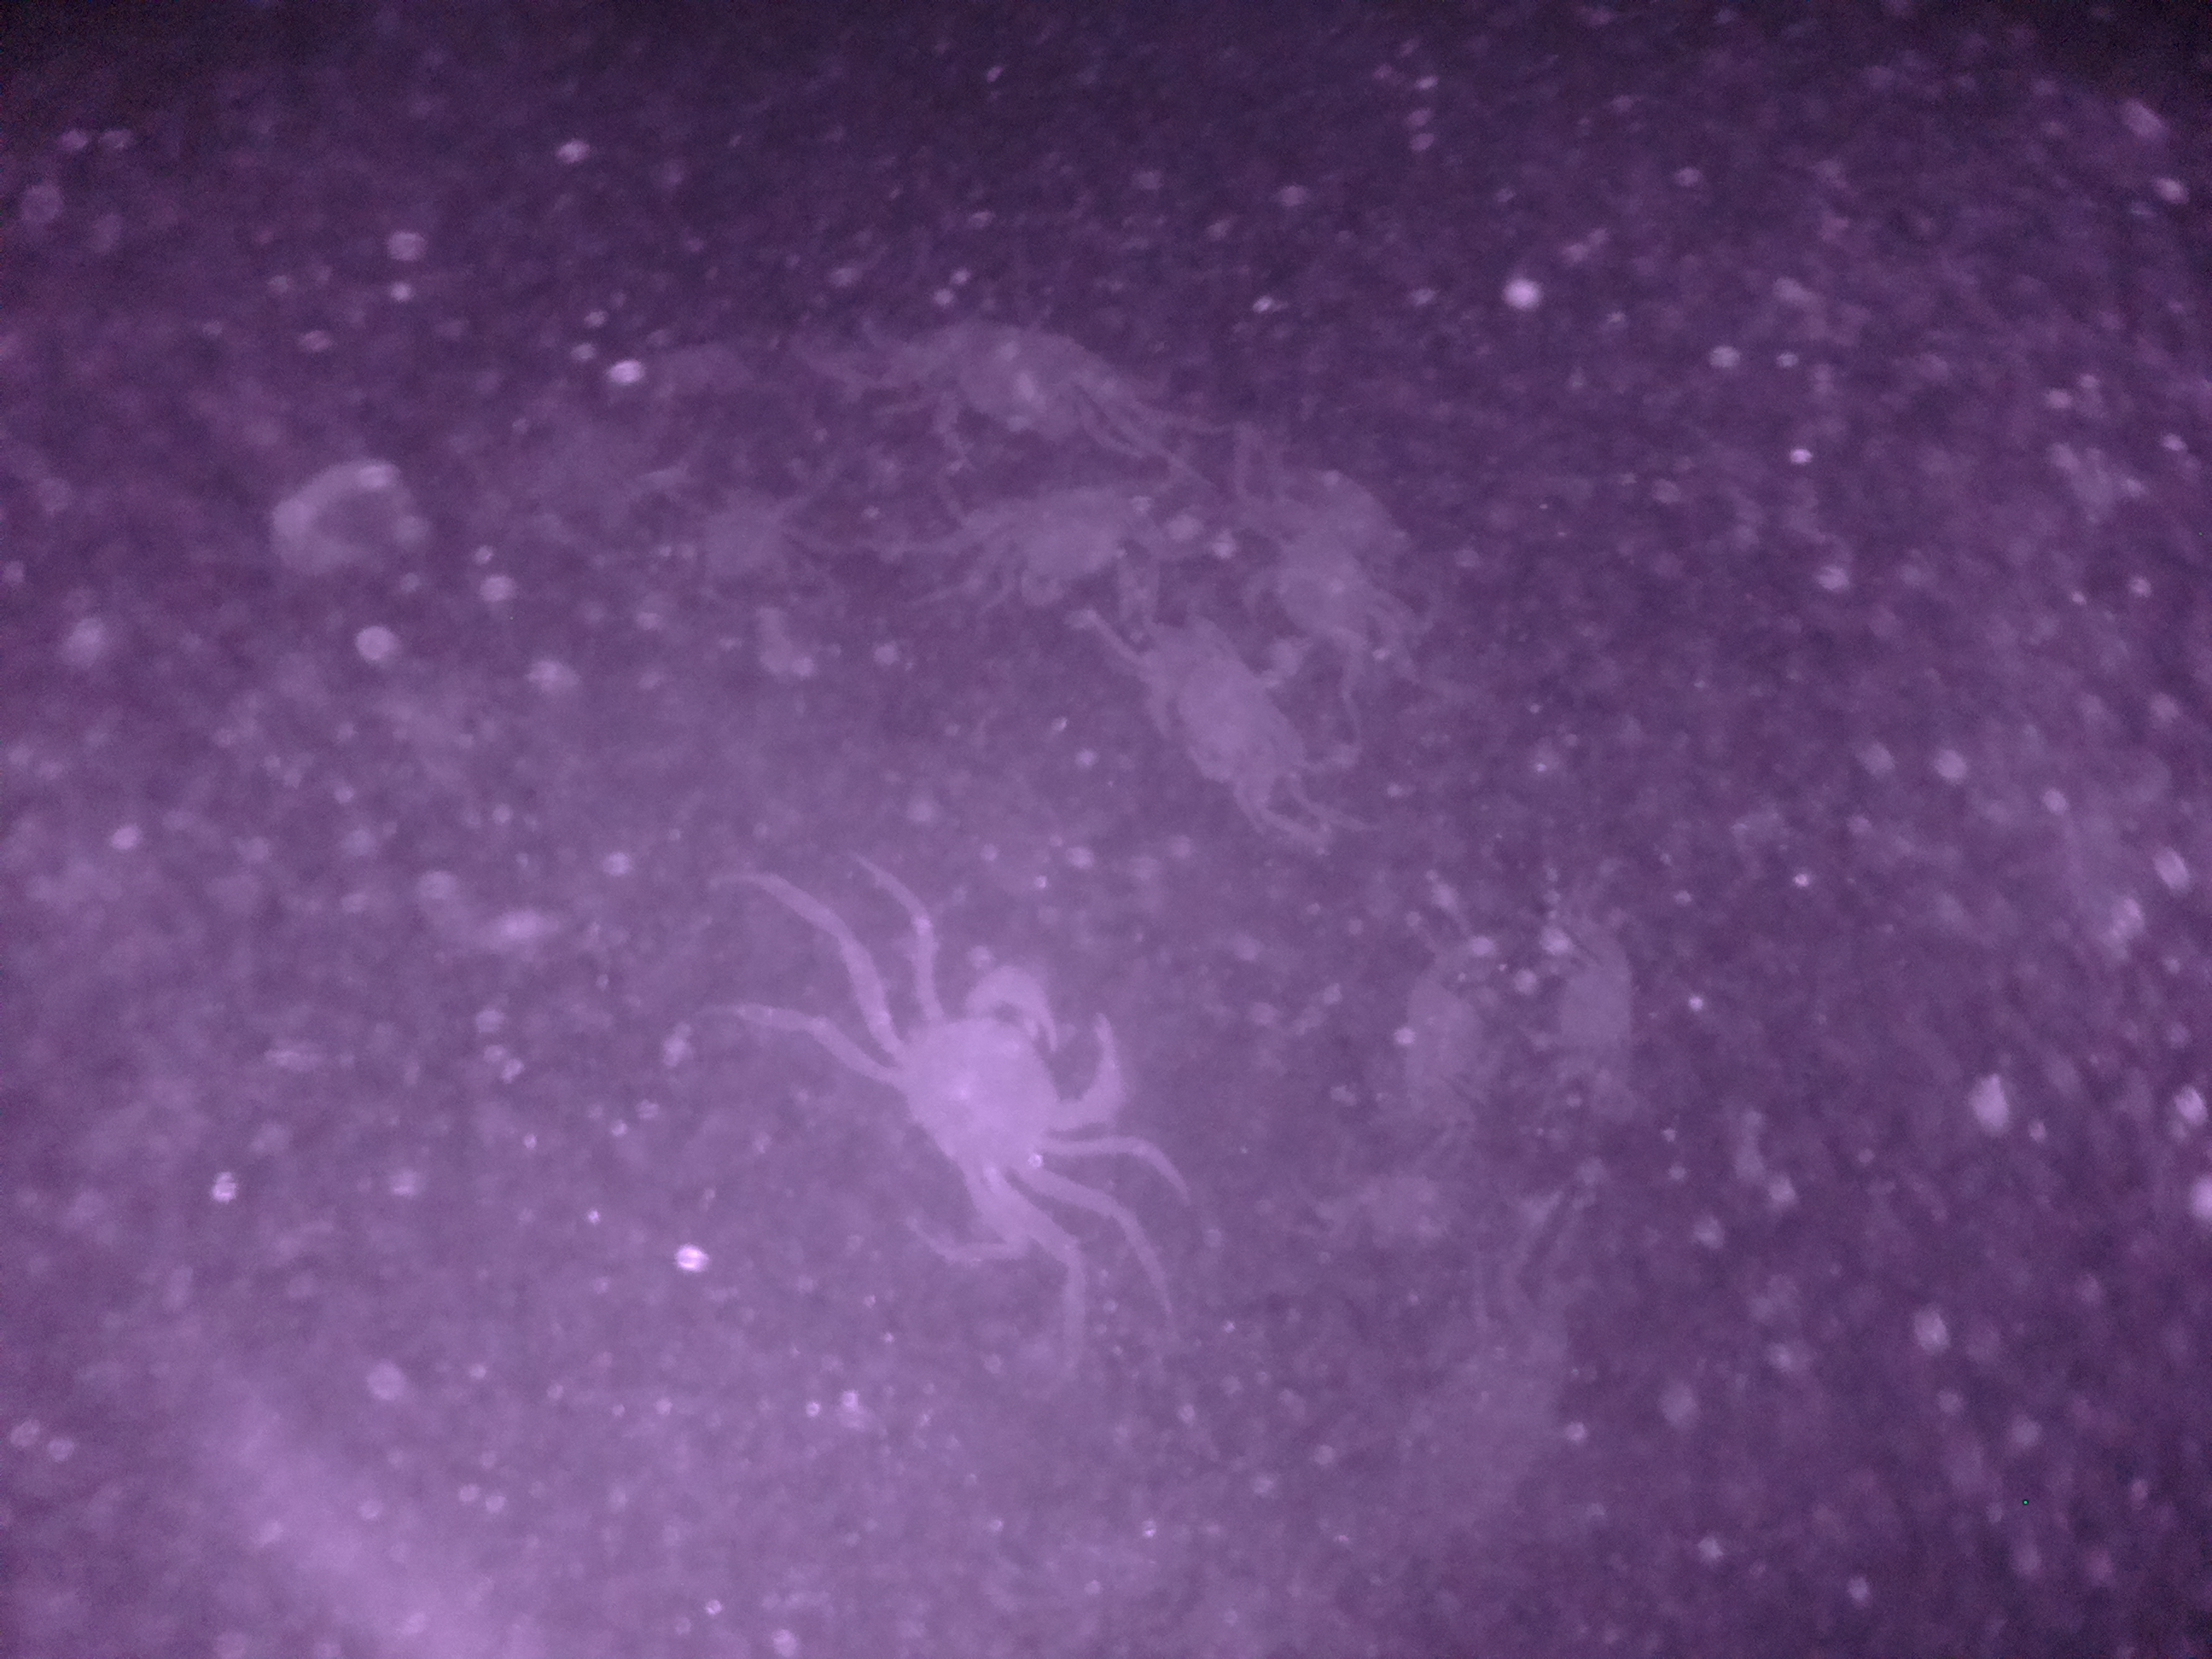Crab: (841, 951, 1127, 1229), (1127, 627, 1303, 843), (1379, 955, 1517, 1134)
